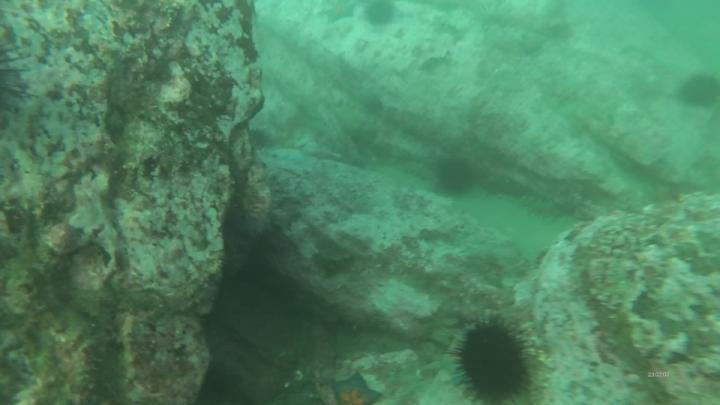echinus: (458, 322, 529, 405), (676, 71, 720, 112), (434, 158, 474, 191), (370, 2, 395, 28)
holothurian: (520, 196, 567, 221)
starfish: (329, 374, 381, 405), (327, 2, 353, 22)
